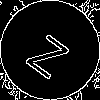Z: (25, 25, 76, 80)
